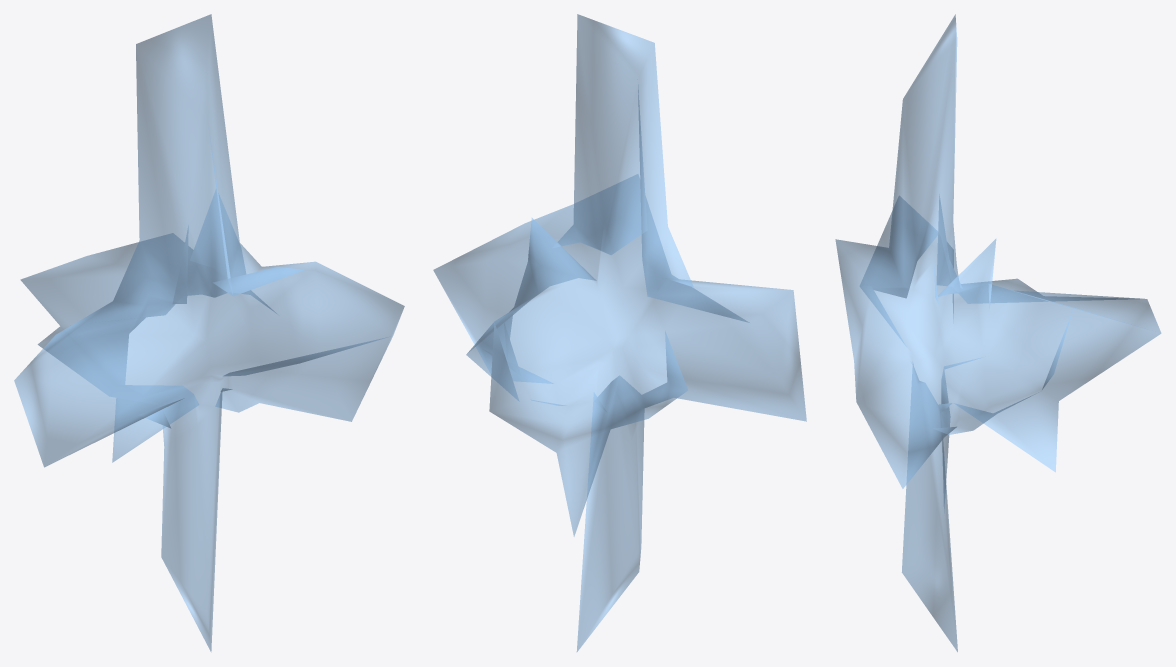
Rendered from tsensor_shield.gltf.
3 views of the same model, side by side, from view 1: azimuth 30°, elevation 25°; view 2: azimuth 150°, elevation 25°; view 3: azimuth 270°, elevation 25° (orthographic). The views are drawn at different scales.
Visible parts, largest first — view 1: tsensor.shield; view 2: tsensor.shield; view 3: tsensor.shield.
Part boxes in pixels (x1,y1,x2,y2): tsensor.shield: (14, 14, 404, 651); tsensor.shield: (433, 14, 806, 651); tsensor.shield: (835, 14, 1161, 651).
Bounding box in the file's own units: 22.17 × 36.8 × 17.74.
